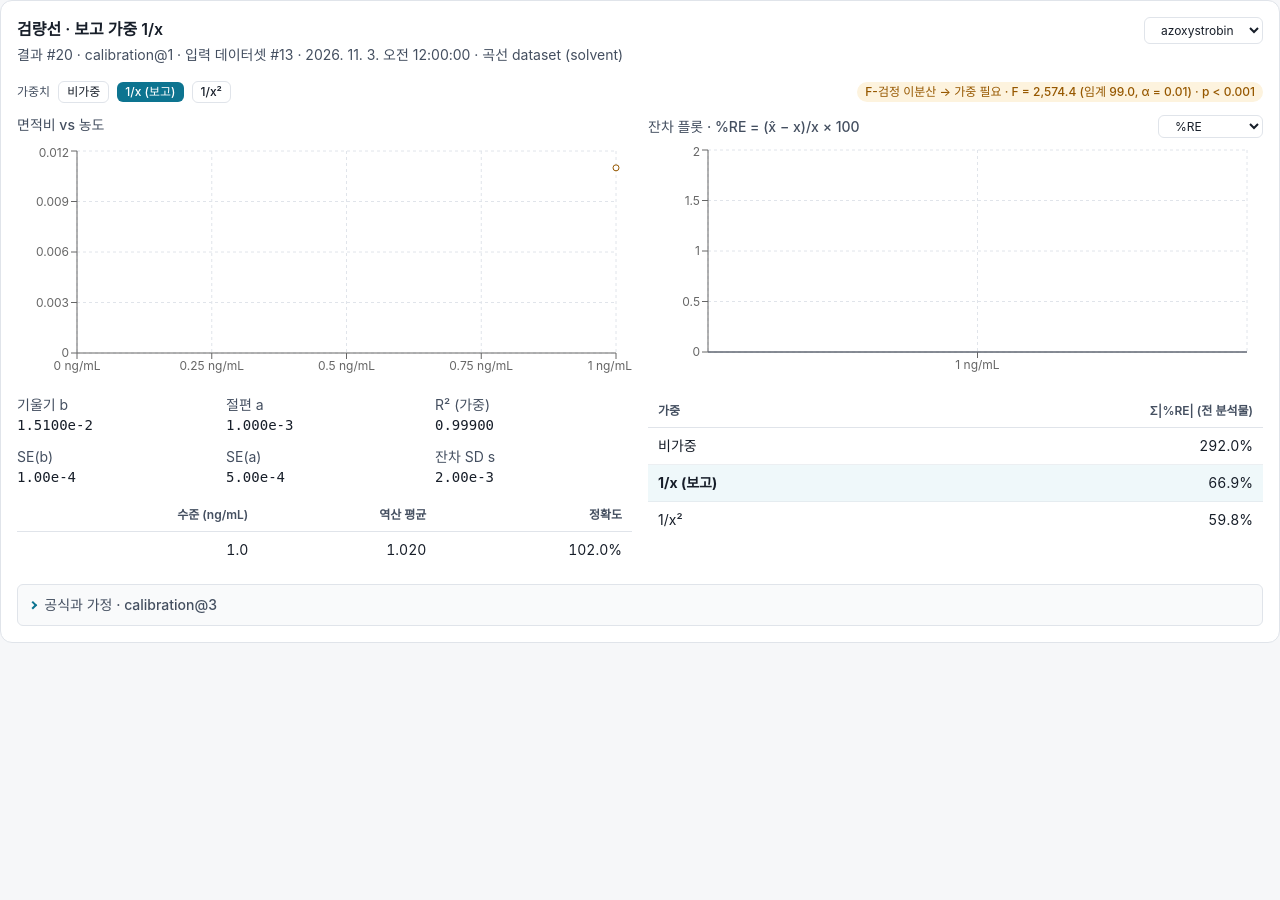
it: CalibrationPanel › shows the heteroscedasticity F-test, residual mode and formula sheet
Expected: the text "이분산 → 가중 필요" is shown, [903,84,1002,99]
Select "표준화 잔차" in the dropdown named "잔차 종류" at coordinates (1210, 126), box [1158,115,1263,138]
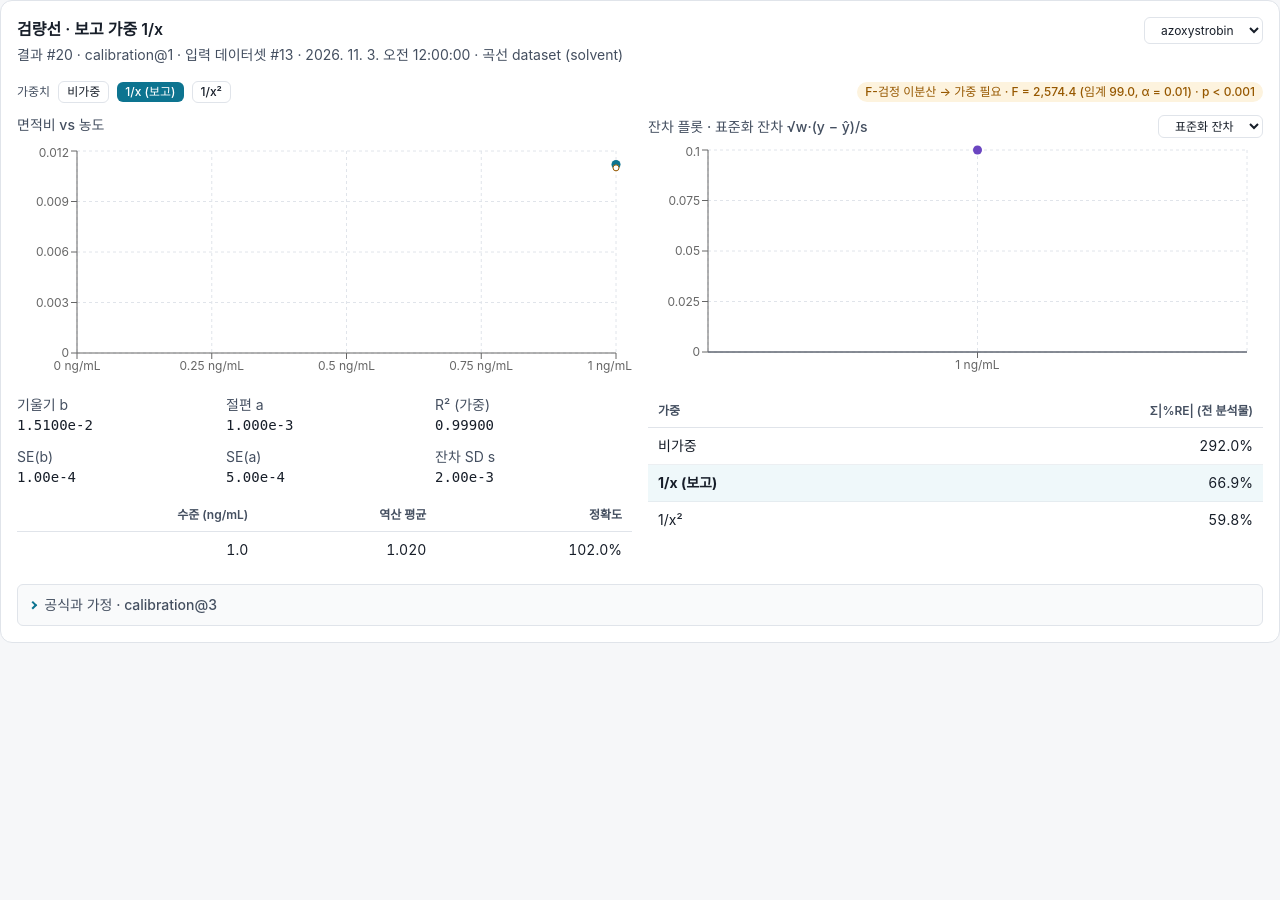
Expected: the heading "공식과 가정 · calibration@3" is shown, [44,596,217,613]
Result: the heading "잔차 플롯 · 표준화 잔차 √w·(y − ŷ)/s" is shown at [648,116,868,136]
